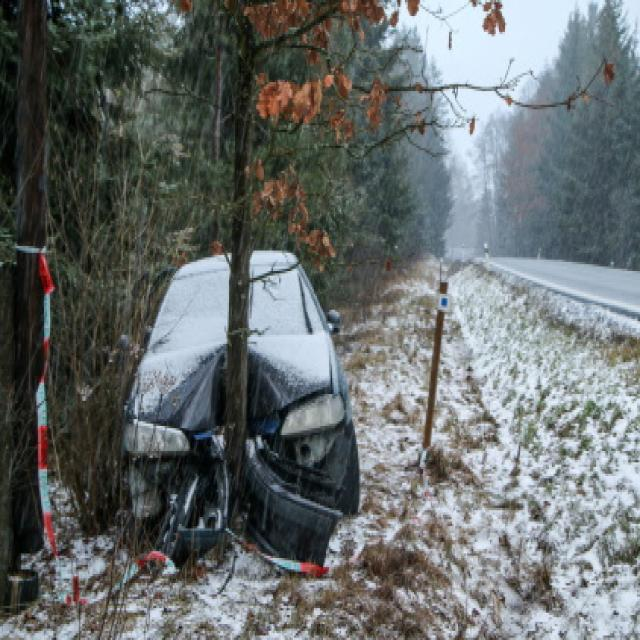Accident: (118, 250, 365, 579)
